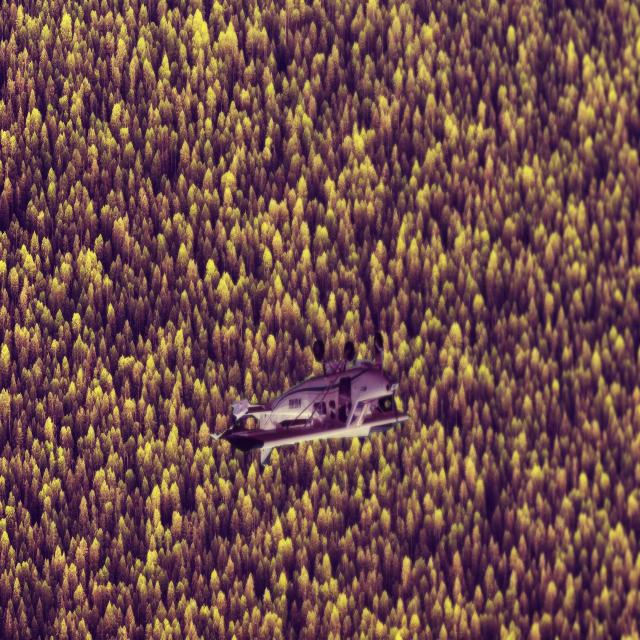airplane: (208, 330, 410, 465)
